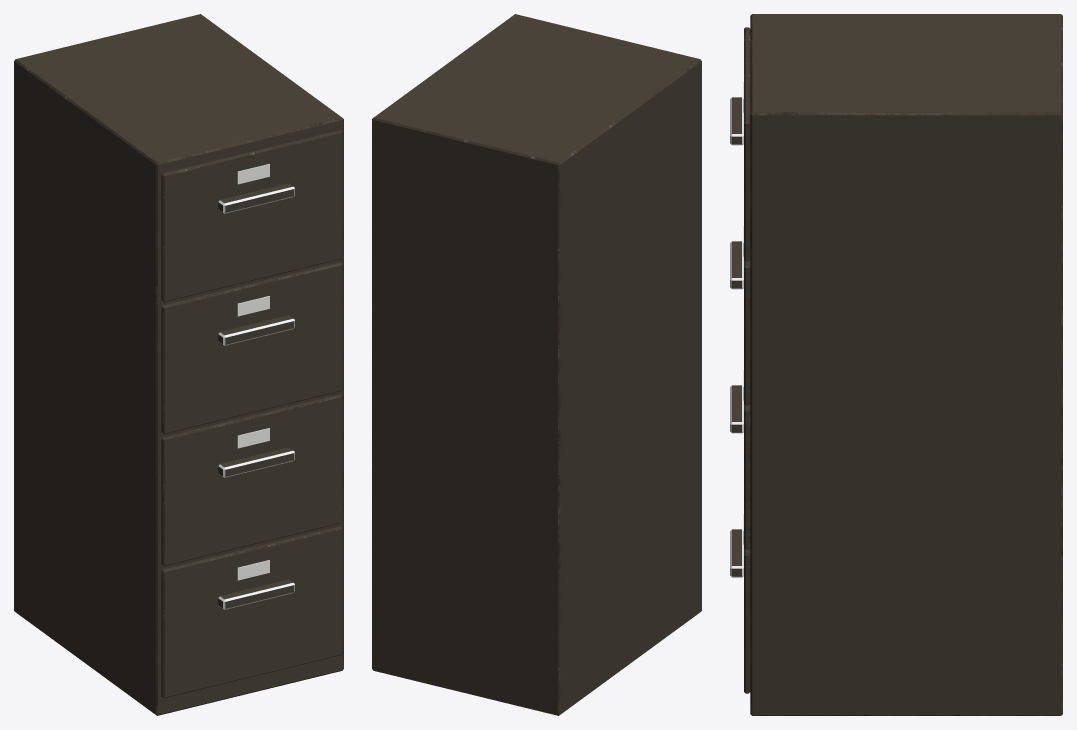
The model's file is filing_cabinet.glb.
The picture shows the model from 3 angles, left to right: view 1: azimuth 30°, elevation 25°; view 2: azimuth 150°, elevation 25°; view 3: azimuth 270°, elevation 25°; orthographic projection. The views are drawn at different scales.
Parts seen in each view (by area): view 1: filing_cabinet; view 2: filing_cabinet; view 3: filing_cabinet.
Part boxes in pixels (box(x1,y1,x2,y2)): filing_cabinet: box(14, 14, 343, 715); filing_cabinet: box(372, 14, 701, 715); filing_cabinet: box(730, 14, 1062, 715).
Size of the model in its own units: 0.47 by 1.32 by 0.66.
3 materials, 1 textured.
